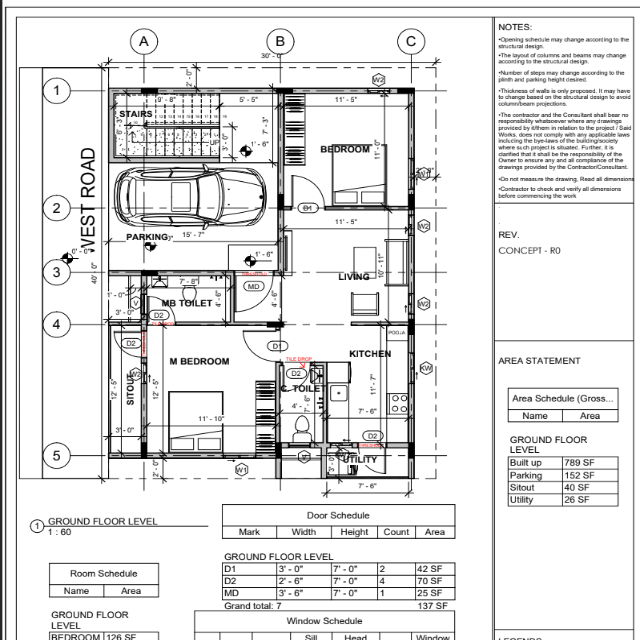door: (233, 273, 276, 315), (290, 173, 329, 209), (242, 328, 279, 364), (355, 445, 389, 476), (113, 329, 145, 359), (147, 295, 177, 324), (283, 363, 312, 393)
